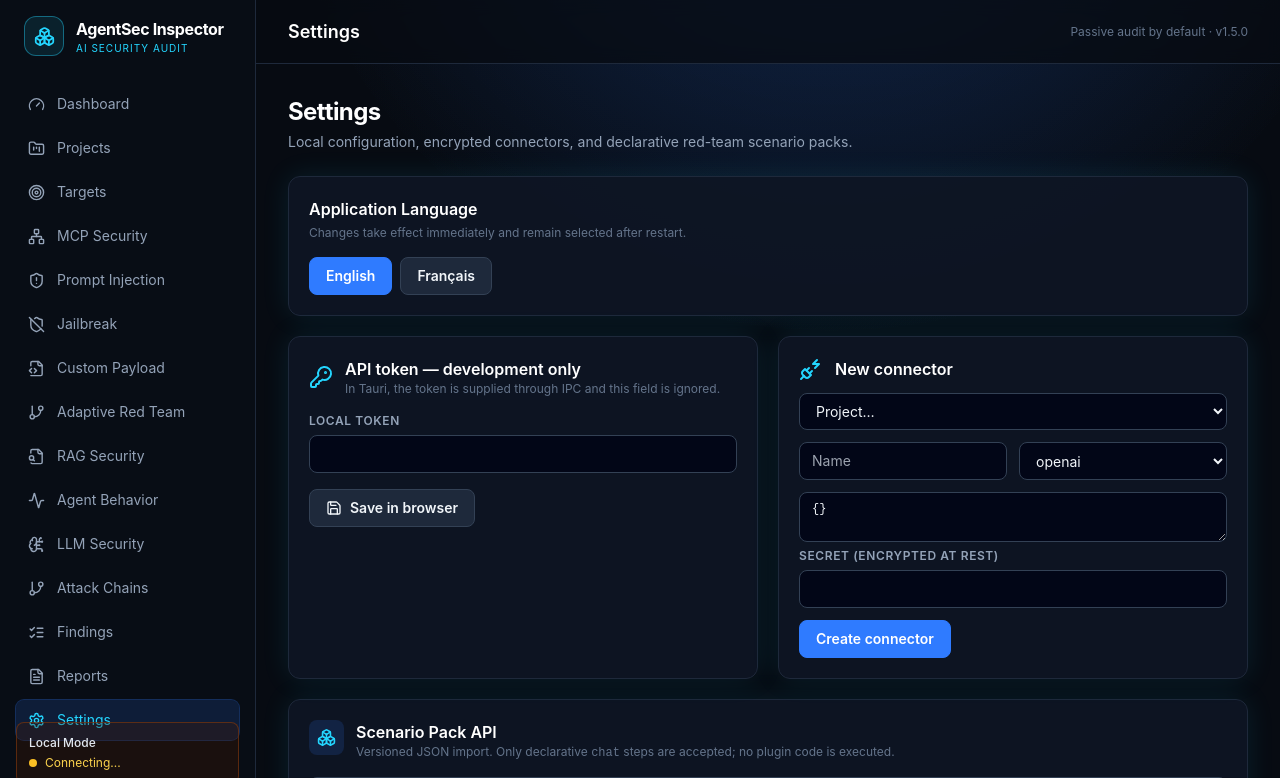
Test case: uses English by default and persists an immediate French selection
Expected: the text "Local configuration, encrypted connectors, and declarative red-team scenario packs." is shown, [288,133,852,150]
Click the button "Français" at (446, 276), box [400,257,492,295]
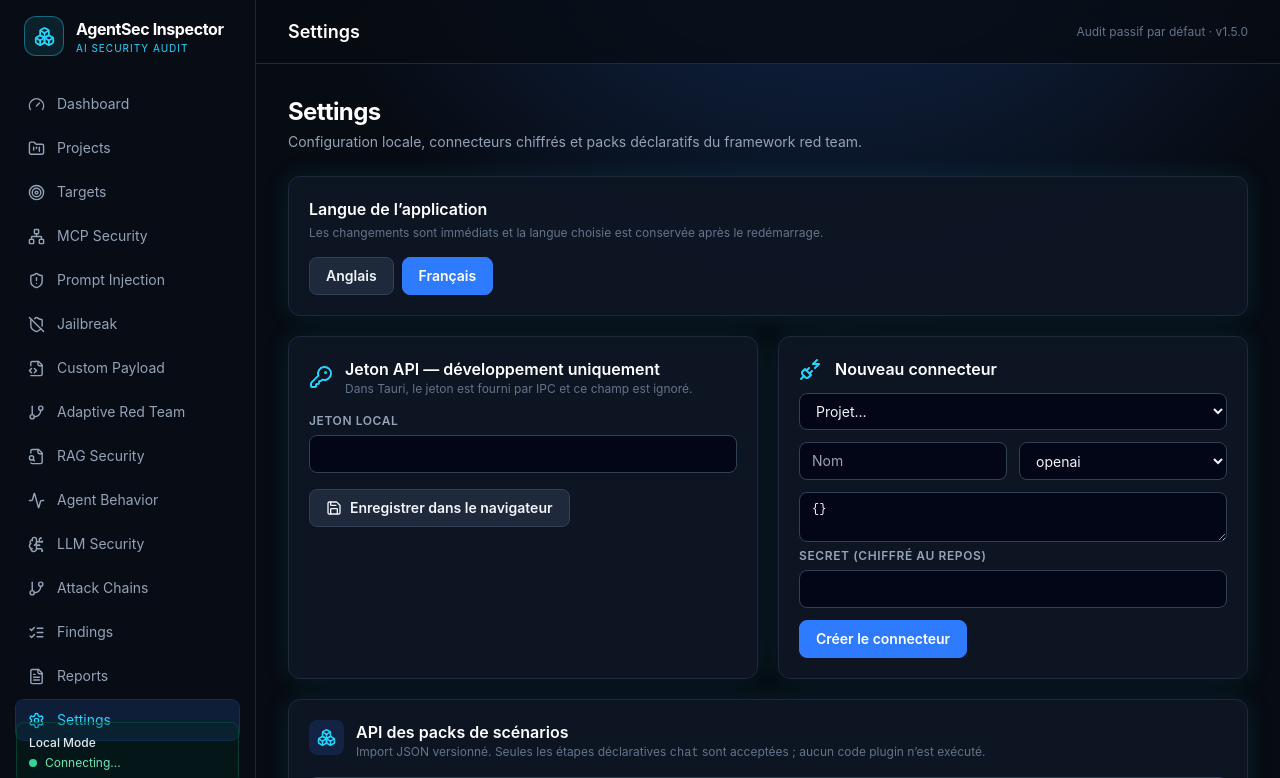
Now the text "Configuration locale, connecteurs chiffrés et packs déclaratifs du framework red team." is shown, box [288,133,862,150]
